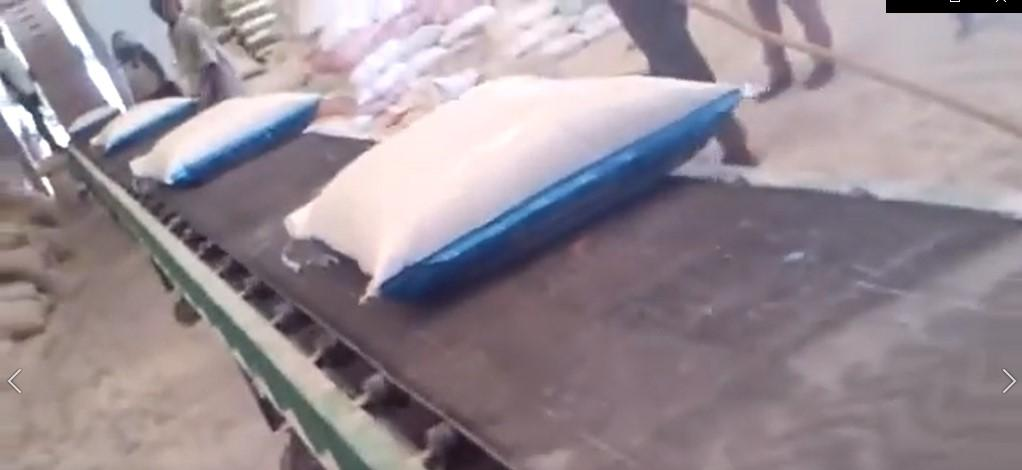rice-bag: (283, 76, 740, 301), (129, 92, 320, 186), (90, 97, 197, 153), (67, 105, 120, 139)
